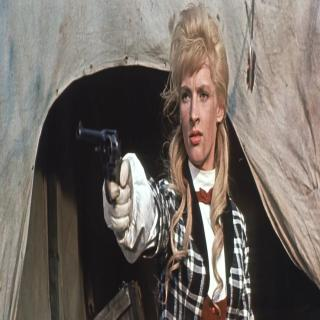gun: (78, 118, 138, 254)
